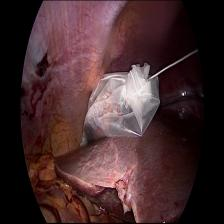Specimen Bag: (78, 56, 161, 152)
